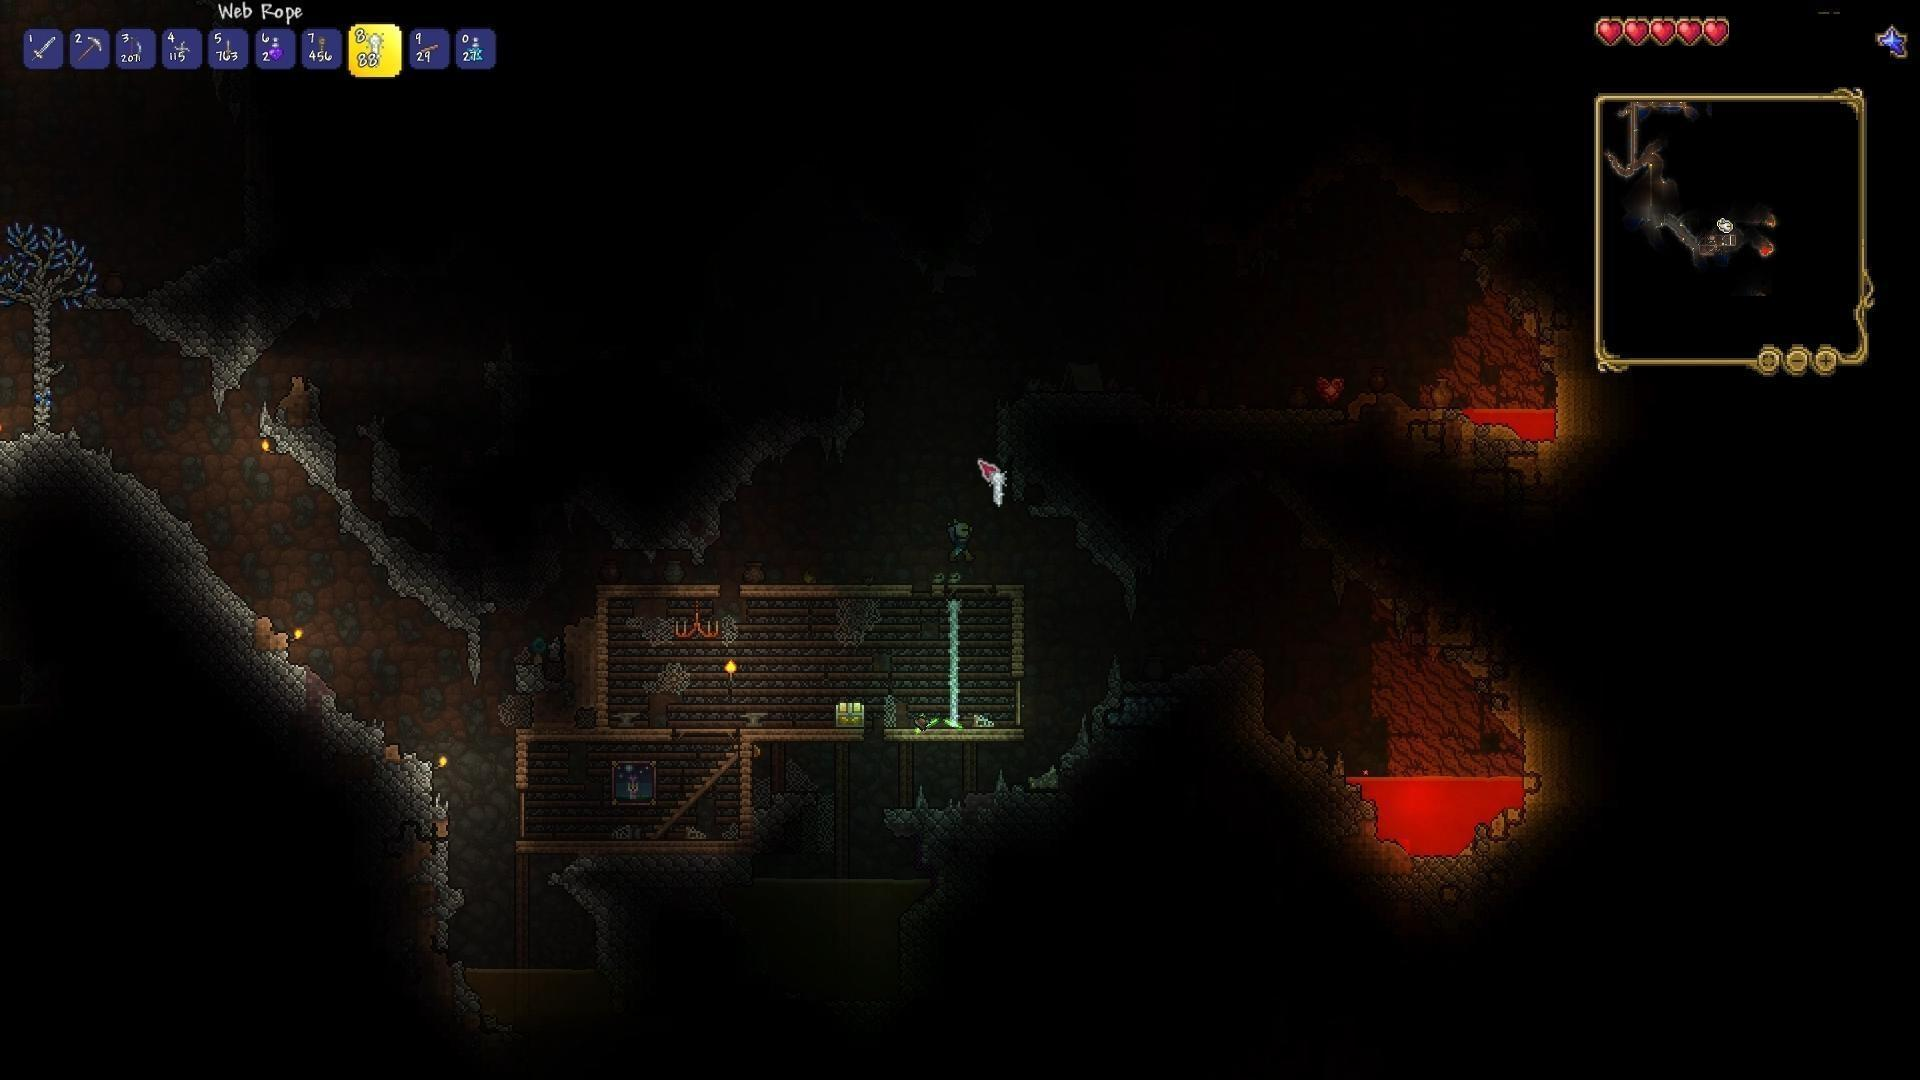heart: (1702, 17, 1733, 51), (1593, 16, 1626, 46), (1676, 15, 1704, 50), (1650, 16, 1676, 49), (1625, 15, 1651, 44)
liquid: (827, 862, 935, 910), (456, 955, 529, 986)
sand: (1515, 695, 1553, 833), (1548, 368, 1585, 456)
stone: (145, 487, 258, 658), (361, 526, 493, 641), (311, 702, 423, 819), (0, 418, 135, 516), (240, 410, 363, 517), (156, 311, 270, 389), (418, 843, 485, 949)
